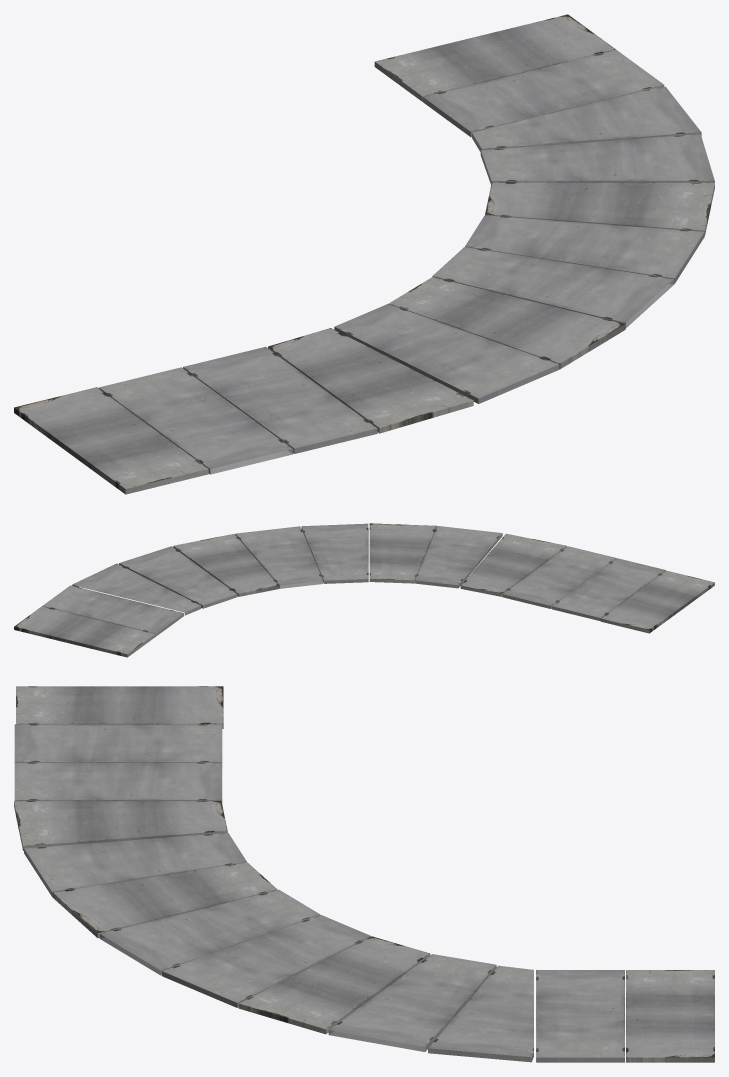
Rendered from plant-roadturn.glb.
3 renders of one model, top to bottom at view 1: azimuth 30°, elevation 25°; view 2: azimuth 150°, elevation 25°; view 3: azimuth 270°, elevation 25°, orthographic. The views are drawn at different scales.
Visible parts, largest first — view 1: Object8935798; view 2: Object8935798; view 3: Object8935798.
Boxes of the visible parts, left/top/right/bottom form: Object8935798: left=14, top=14, right=714, bottom=494; Object8935798: left=14, top=523, right=714, bottom=657; Object8935798: left=14, top=686, right=714, bottom=1062.
Size of the model in its own units: 26.95 by 0.1721 by 21.5.
Materials: 1 (1 with a texture image).
